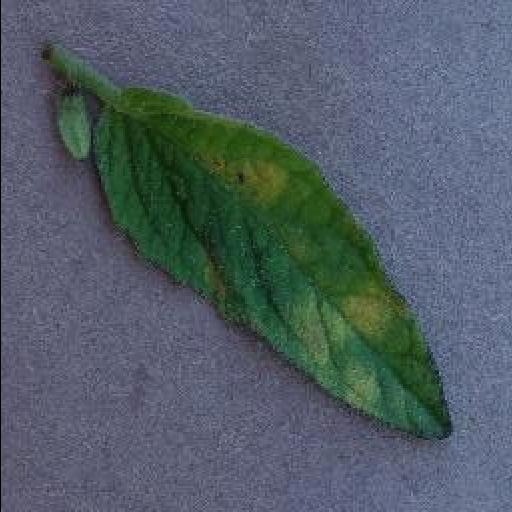disease_tomato: (90, 88, 456, 442)
